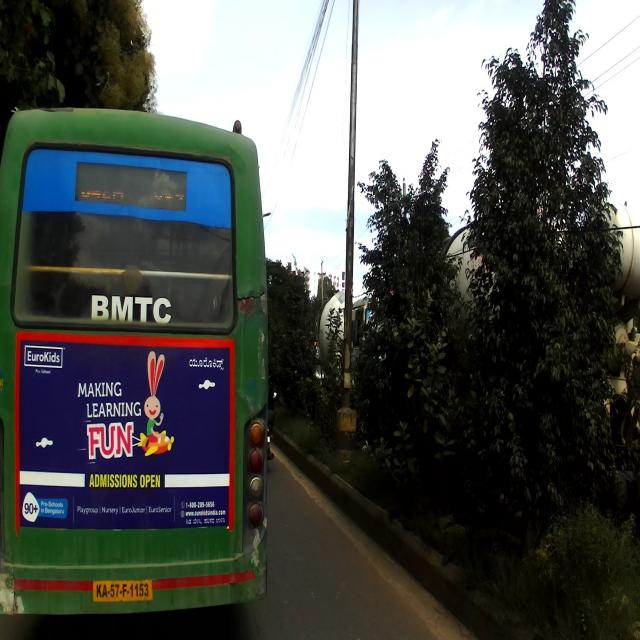bus: (0, 104, 272, 616)
